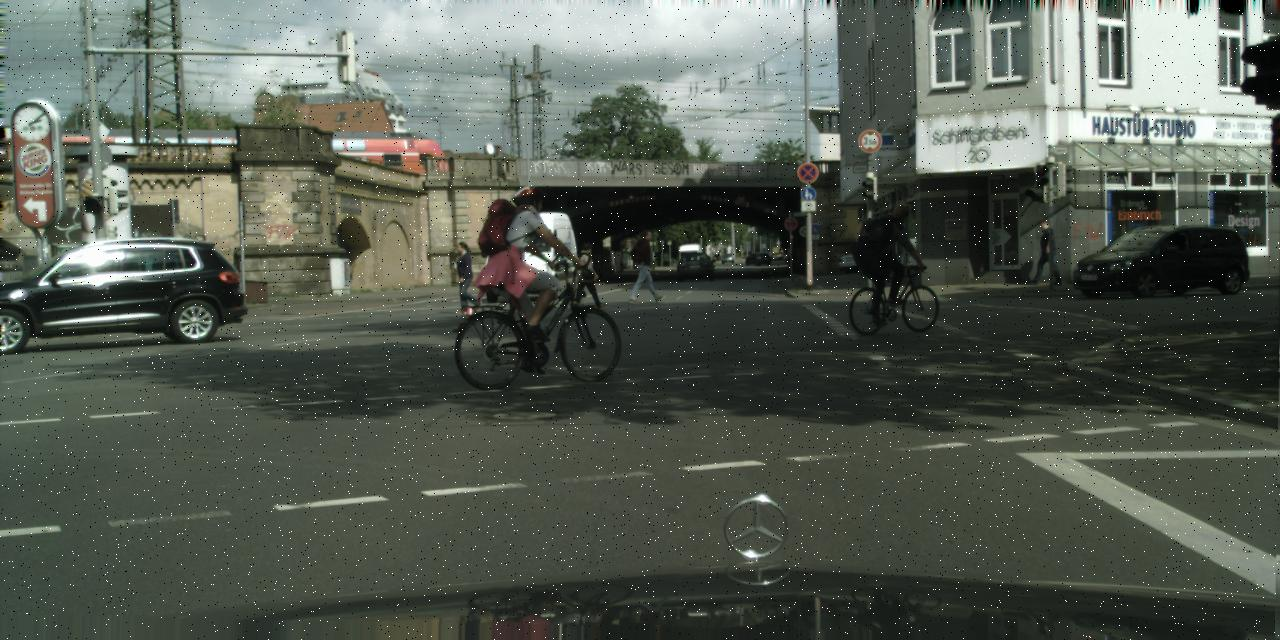ped: (496, 185, 565, 353), (872, 202, 916, 312), (631, 229, 661, 302), (452, 241, 480, 312), (573, 242, 599, 306), (1032, 220, 1058, 283)
